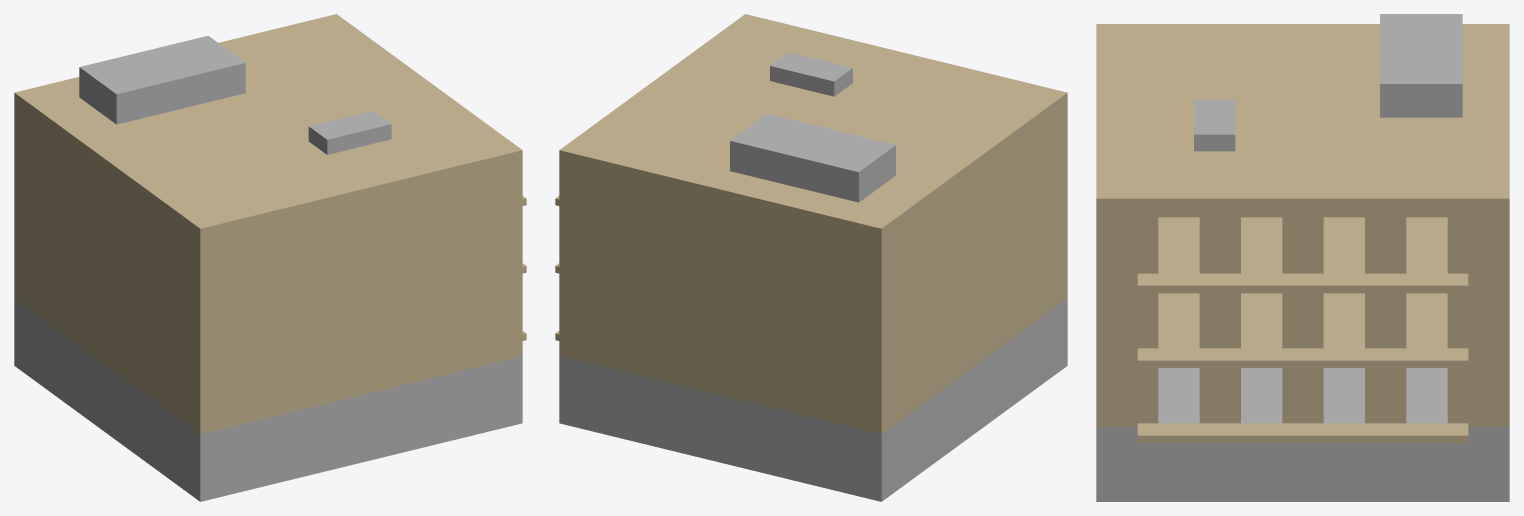
File: Flat2.fbx
3 views of the same model, side by side, from view 1: azimuth 30°, elevation 25°; view 2: azimuth 150°, elevation 25°; view 3: azimuth 270°, elevation 25° (orthographic). The views are drawn at different scales.
Visible parts, largest first — view 1: Cube.006, Cube.003, Cube.007, Cube, Cube.025, Cube.004, Cube.005; view 2: Cube.005, Cube.003, Cube.007, Cube, Cube.025, Cube.004, Cube.006; view 3: Cube.003, Cube, Cube.010, Cube.012, Cube.002, Cube.001, Cube.025, Cube.011, Cube.008, Cube.009, Cube.028, Cube.026 (+8 smaller).
Part boxes in pixels (x1,y1,x2,y2): Cube.006: (196,157,522,434); Cube.003: (14,14,522,235); Cube.007: (18,99,196,431); Cube: (14,298,522,501); Cube.025: (79,35,245,124); Cube.004: (308,110,391,154); Cube.005: (14,97,17,300); Cube.005: (559,153,885,434); Cube.003: (559,14,1067,235); Cube.007: (885,102,1063,431); Cube: (559,298,1067,501); Cube.025: (730,113,895,202); Cube.004: (770,52,852,96); Cube.006: (1064,96,1067,300); Cube.003: (1096,24,1509,205); Cube: (1096,368,1509,501); Cube.010: (1100,202,1158,426); Cube.012: (1447,202,1505,426); Cube.002: (1158,217,1447,269); Cube.001: (1158,293,1447,344); Cube.025: (1380,14,1462,117); Cube.011: (1365,202,1406,423); Cube.008: (1282,202,1323,423); Cube.009: (1199,202,1240,423); Cube.028: (1137,273,1468,293); Cube.026: (1137,348,1468,367).
Bounding box in the file's own units: 1070 × 900 × 1000.
